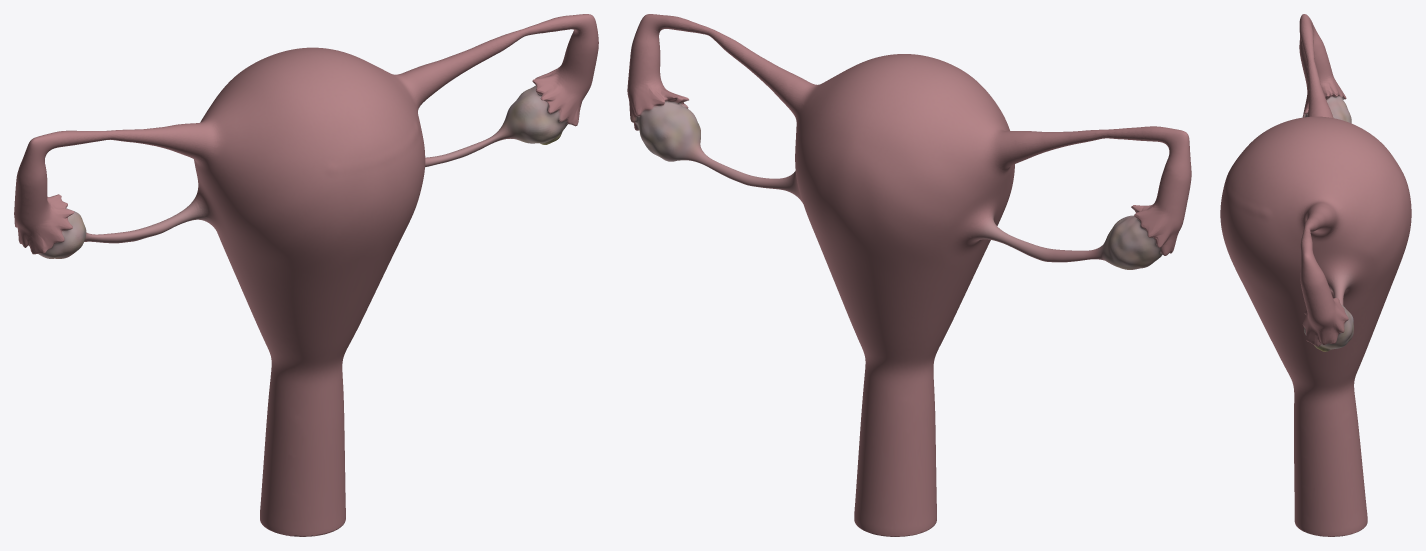
File: uterus.glb
3 renders of one model, left to right at view 1: azimuth 30°, elevation 25°; view 2: azimuth 150°, elevation 25°; view 3: azimuth 270°, elevation 25°, orthographic. The views are drawn at different scales.
Visible parts, largest first — view 1: Skin_ZSphere; view 2: Skin_ZSphere; view 3: Skin_ZSphere.
Part boxes in pixels (x1=…): Skin_ZSphere: x1=14, y1=14, x2=598, y2=536; Skin_ZSphere: x1=627, y1=14, x2=1191, y2=536; Skin_ZSphere: x1=1220, y1=14, x2=1411, y2=536.
Bounding box in the file's own units: 0.6756 × 0.5211 × 0.2286.
